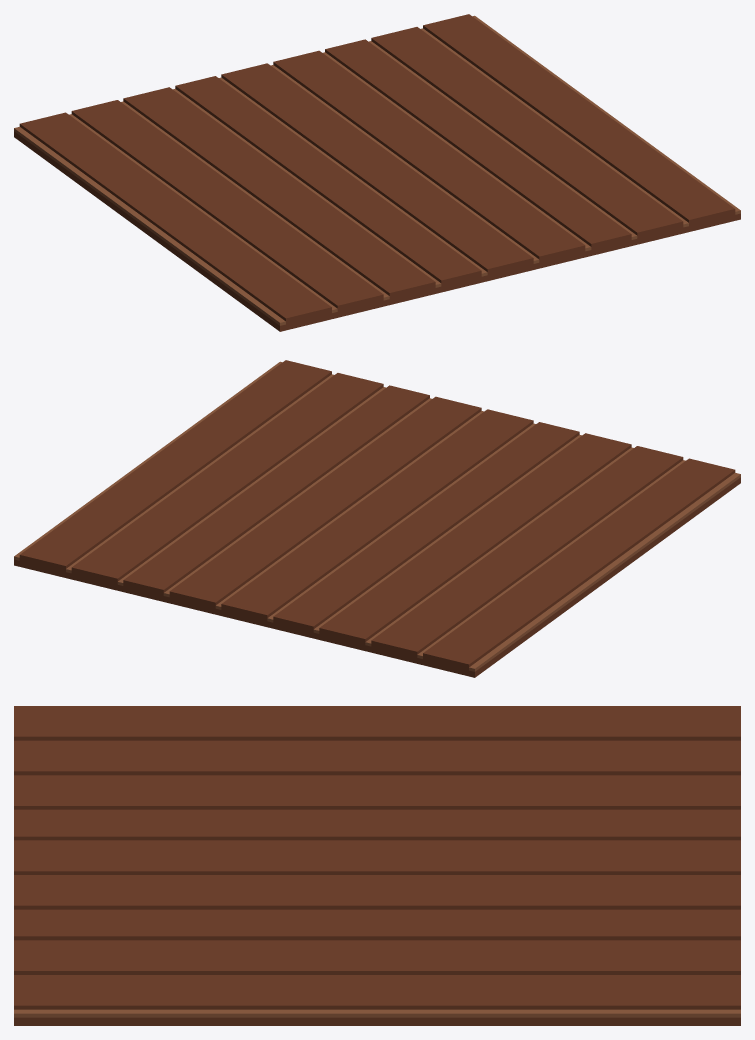
Rendered from FParcked.obj.
3 renders of one model, top to bottom at view 1: azimuth 30°, elevation 25°; view 2: azimuth 150°, elevation 25°; view 3: azimuth 270°, elevation 25°, orthographic. The views are drawn at different scales.
Size of the model in its own units: 16 by 0.4 by 16.
1 material, 1 textured.
